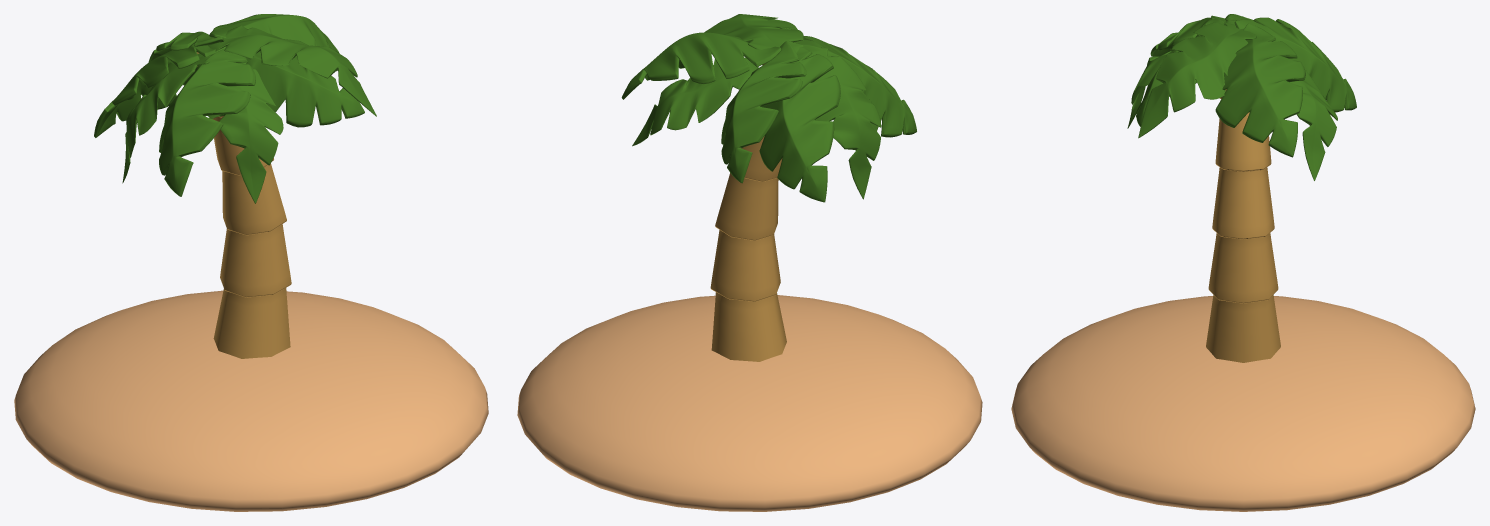
3 renders of one model, left to right at view 1: azimuth 30°, elevation 25°; view 2: azimuth 150°, elevation 25°; view 3: azimuth 270°, elevation 25°, orthographic. The views are drawn at different scales.
Visible parts, largest first — view 1: Cube_10, Palm_9, Leaf.001_0, Leaf.009_8, Leaf.005_4, Leaf.007_6, Leaf.002_1, Leaf.008_7, Leaf.003_2, Leaf.006_5; view 2: Cube_10, Palm_9, Leaf.002_1, Leaf.006_5, Leaf.003_2, Leaf.008_7, Leaf.004_3, Leaf.001_0, Leaf.005_4; view 3: Cube_10, Palm_9, Leaf.003_2, Leaf.005_4, Leaf.006_5, Leaf.004_3, Leaf.001_0, Leaf.007_6.
Boxes of the visible parts, x1,y1,x2,y2 form: Cube_10: (14, 290, 488, 511); Palm_9: (196, 52, 291, 358); Leaf.001_0: (159, 48, 255, 196); Leaf.009_8: (246, 51, 364, 127); Leaf.005_4: (208, 25, 376, 116); Leaf.007_6: (208, 62, 283, 203); Leaf.002_1: (94, 43, 226, 137); Leaf.008_7: (122, 53, 211, 183); Leaf.003_2: (209, 14, 338, 56); Leaf.006_5: (148, 31, 224, 62); Cube_10: (517, 295, 982, 511); Palm_9: (710, 63, 786, 361); Leaf.002_1: (759, 47, 840, 202); Leaf.006_5: (721, 41, 806, 183); Leaf.003_2: (621, 32, 781, 99); Leaf.008_7: (806, 47, 881, 199); Leaf.004_3: (632, 57, 758, 146); Leaf.001_0: (794, 36, 916, 137); Leaf.005_4: (704, 14, 803, 52); Cube_10: (1011, 296, 1475, 511); Palm_9: (1206, 89, 1280, 362); Leaf.003_2: (1215, 23, 1305, 157); Leaf.005_4: (1138, 22, 1256, 138); Leaf.006_5: (1234, 17, 1356, 112); Leaf.004_3: (1290, 70, 1337, 180); Leaf.001_0: (1147, 17, 1224, 65); Leaf.007_6: (1127, 35, 1200, 128).
Bounding box in the file's own units: 13.66 × 12.3 × 13.66.
